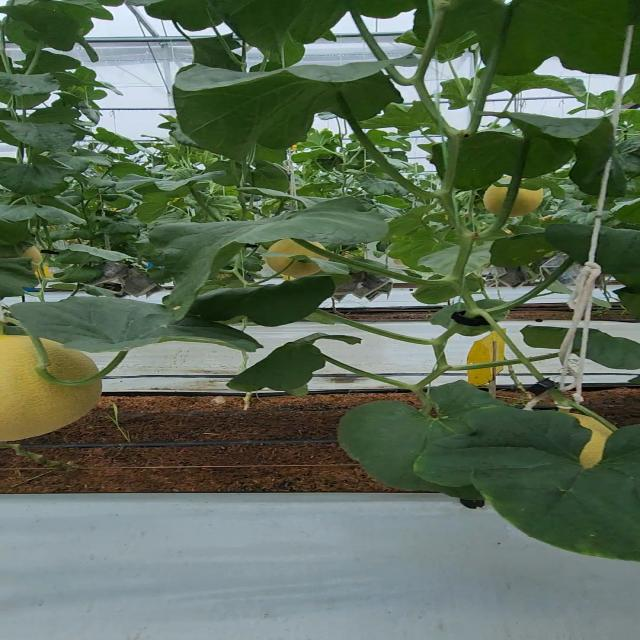Front-melon: (0, 338, 107, 443)
